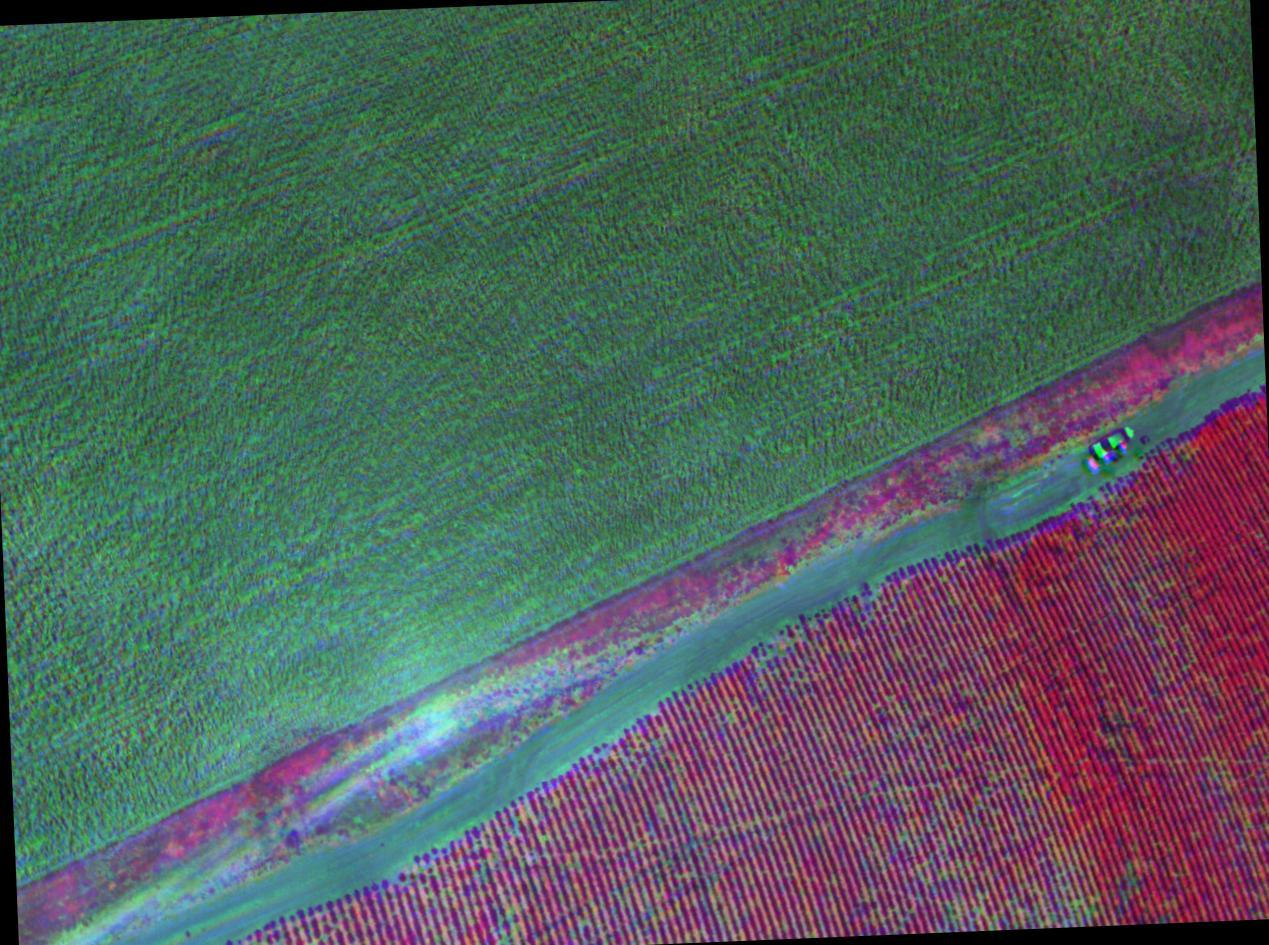dc: (1024, 846, 1111, 929), (894, 793, 966, 873), (385, 860, 470, 922), (629, 842, 697, 911), (506, 802, 568, 872), (484, 912, 588, 945), (753, 618, 811, 677)
